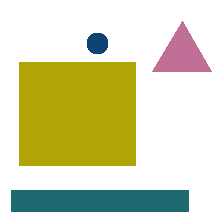circle: (87, 33, 107, 53)
rectangle: (19, 62, 135, 165), (11, 190, 188, 211)
triangle: (152, 21, 211, 71)
